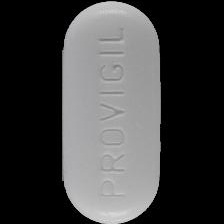68258-7981: (0, 0, 224, 224)
